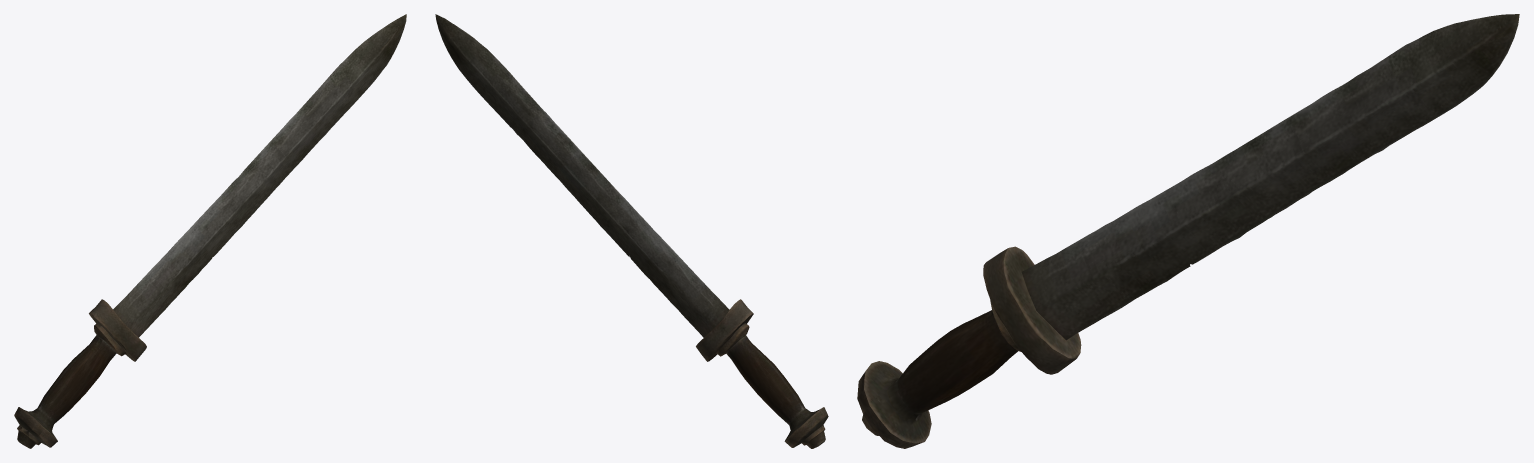
The model's file is kusanagi.glb.
3 views of the same model, side by side, from view 1: azimuth 30°, elevation 25°; view 2: azimuth 150°, elevation 25°; view 3: azimuth 330°, elevation 25° (orthographic). The views are drawn at different scales.
Parts seen in each view (by area): view 1: geom0; view 2: geom0; view 3: geom0.
Part boxes in pixels (x1=…): geom0: x1=14, y1=14, x2=406, y2=448; geom0: x1=435, y1=14, x2=828, y2=448; geom0: x1=857, y1=14, x2=1519, y2=448.
Bounding box in the file's own units: 1 × 0.8488 × 0.1035.
1 material, 1 textured.
